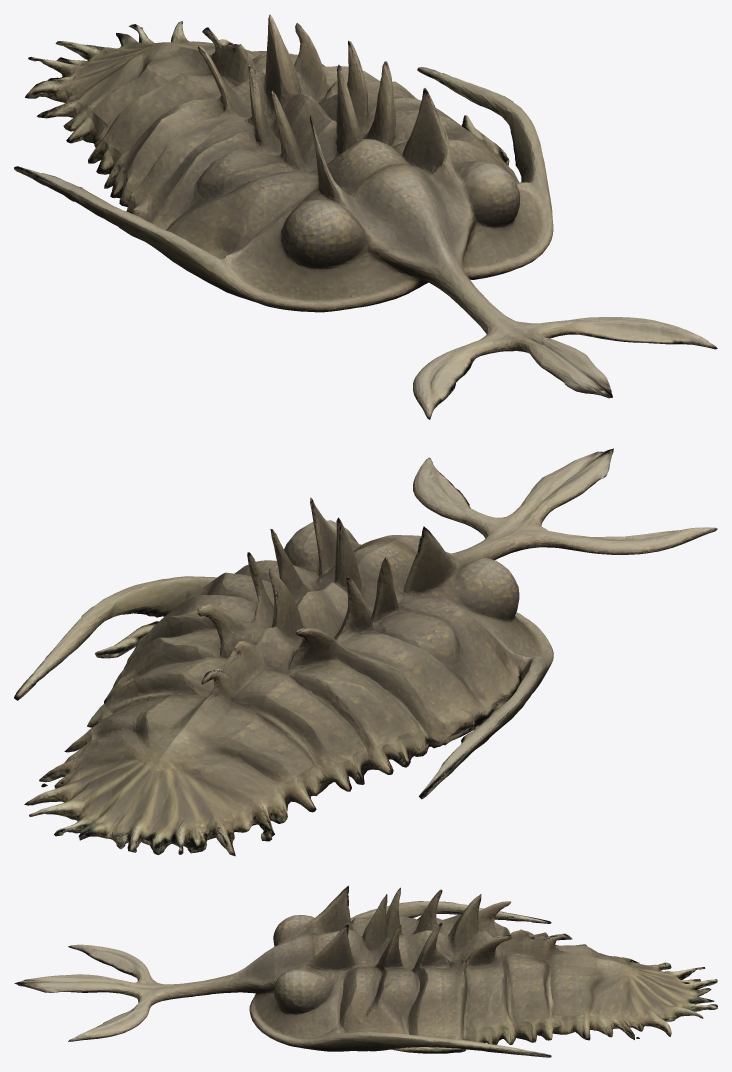
3 views of the same model, one above another, from view 1: azimuth 30°, elevation 25°; view 2: azimuth 150°, elevation 25°; view 3: azimuth 270°, elevation 25° (orthographic). The views are drawn at different scales.
Parts seen in each view (by area): view 1: world; view 2: world; view 3: world.
Boxes of the visible parts, <box> form: world: <box>14,14,717,419</box>; world: <box>14,448,717,856</box>; world: <box>14,885,717,1057</box>.
Size of the model in its own units: 0.0352 by 0.0144 by 0.075.
1 material, 1 textured.
